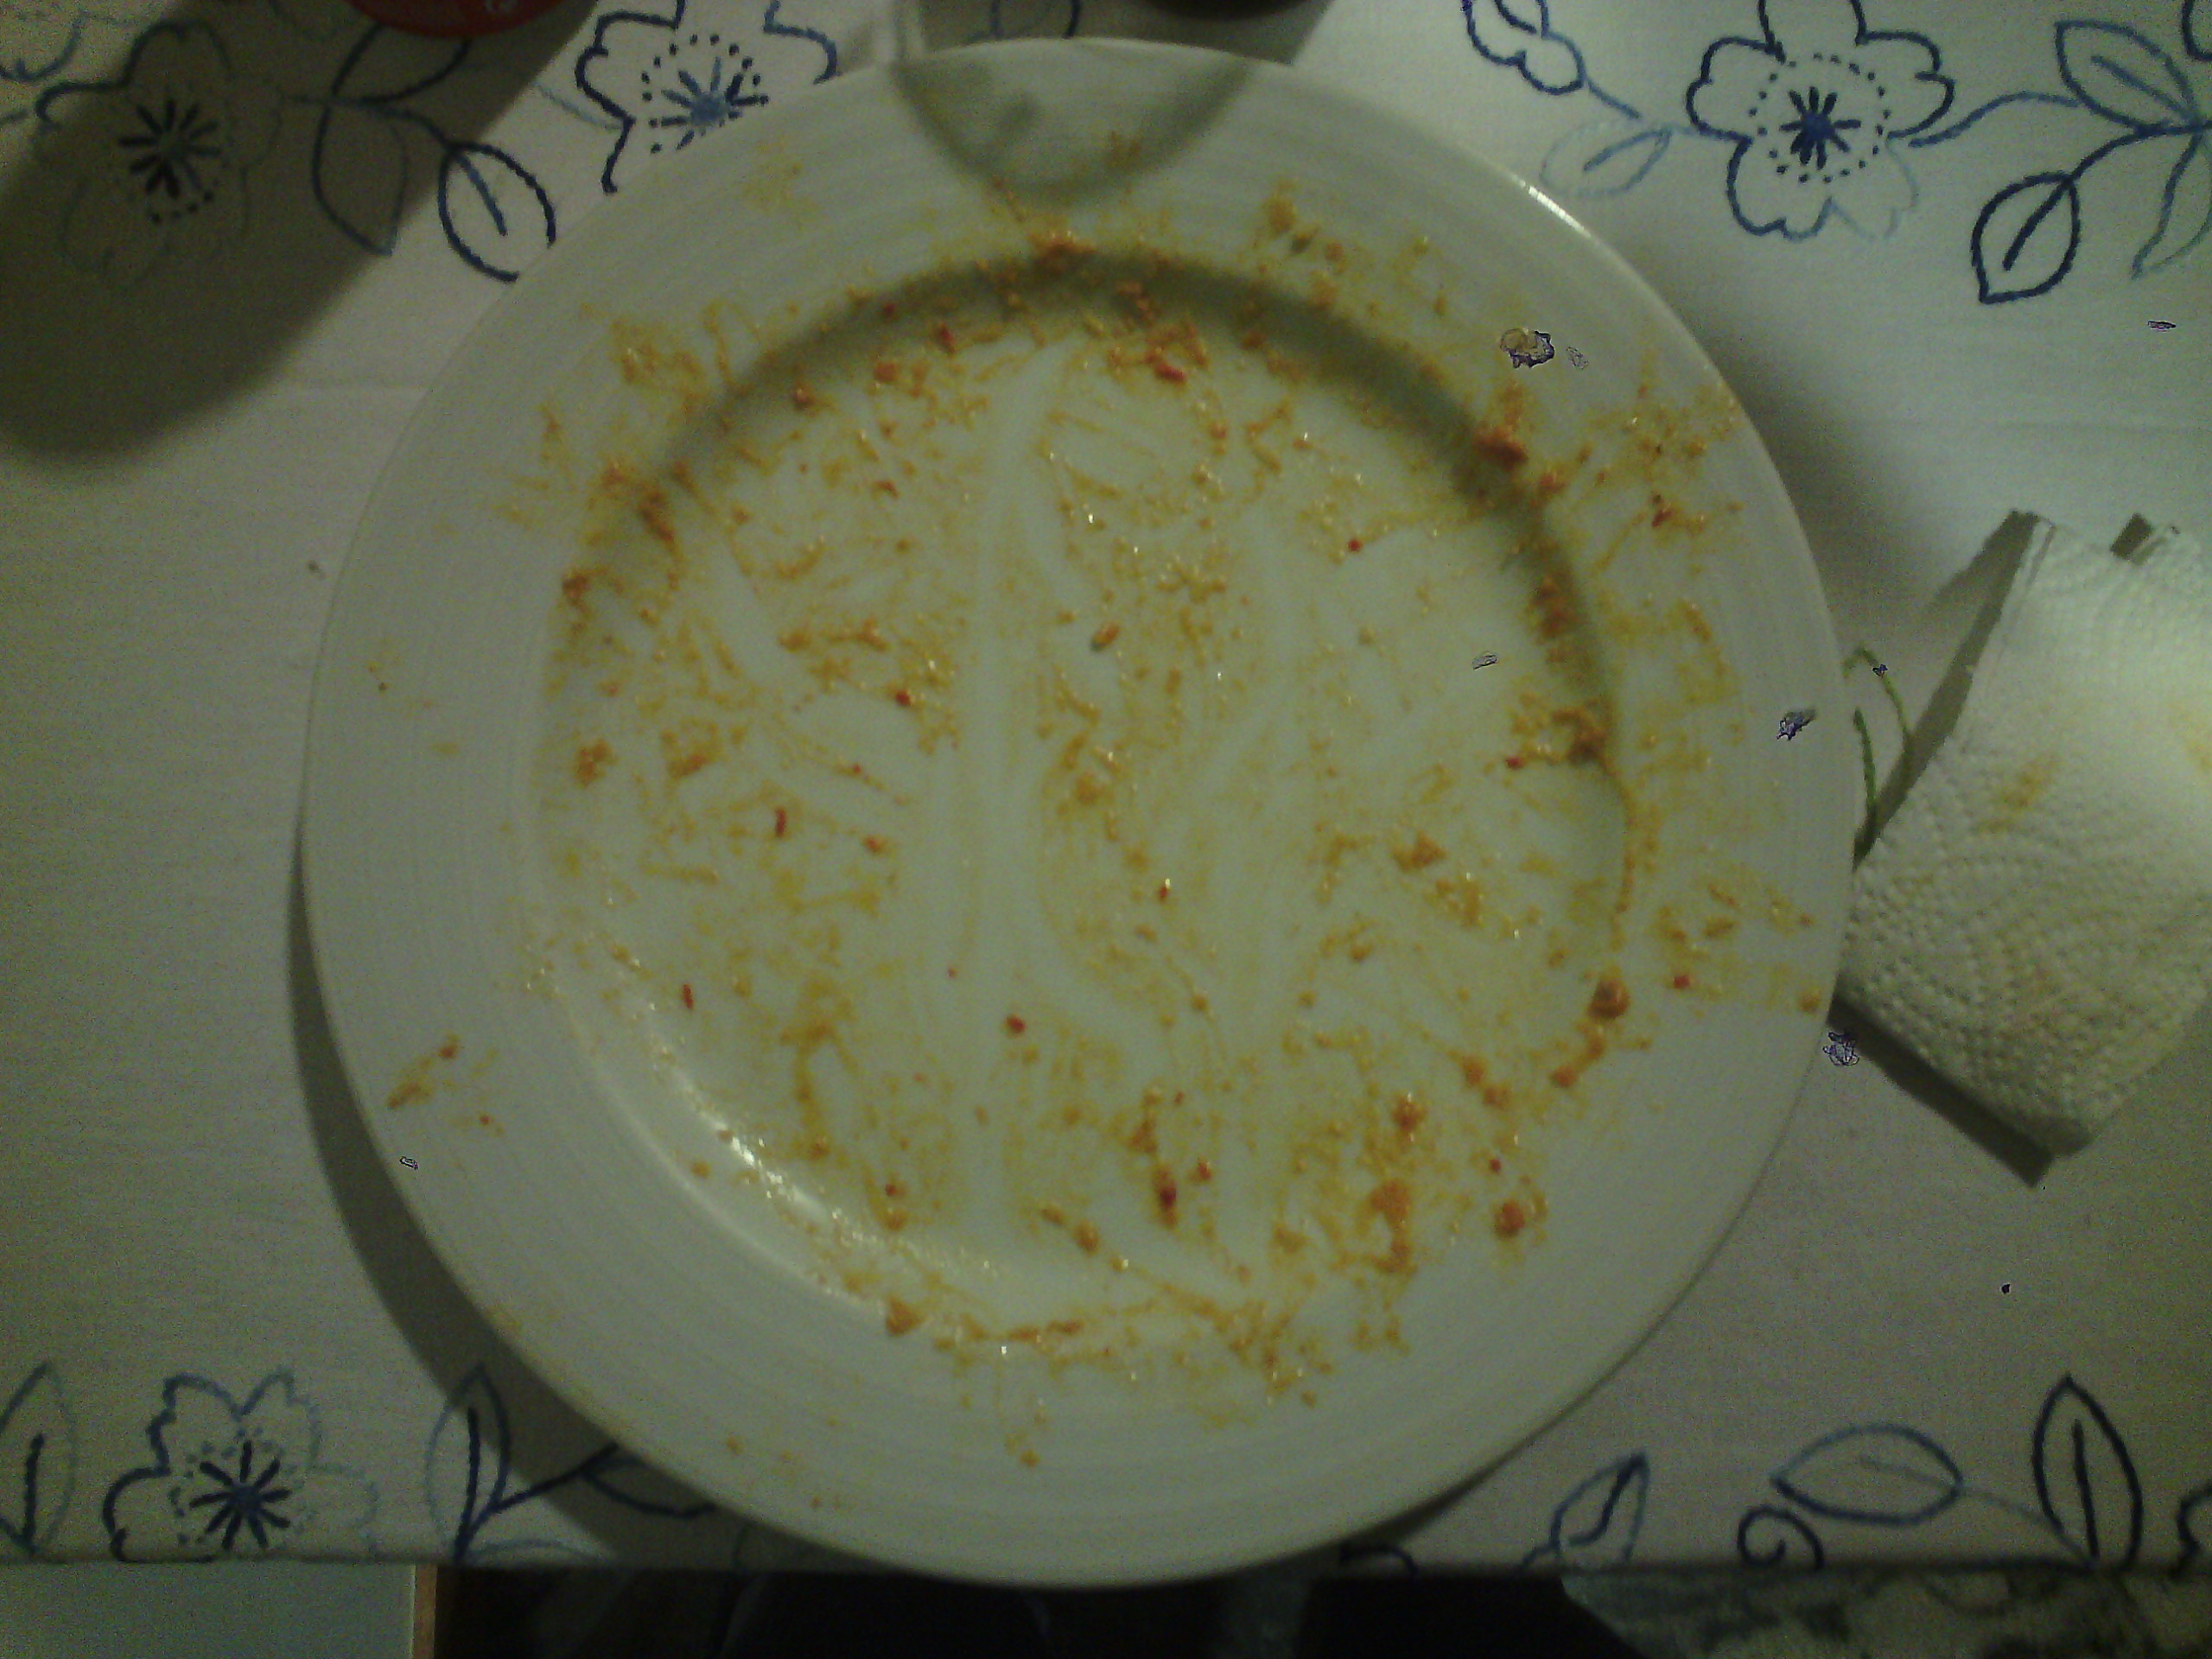0-20: (301, 51, 1855, 1598)
